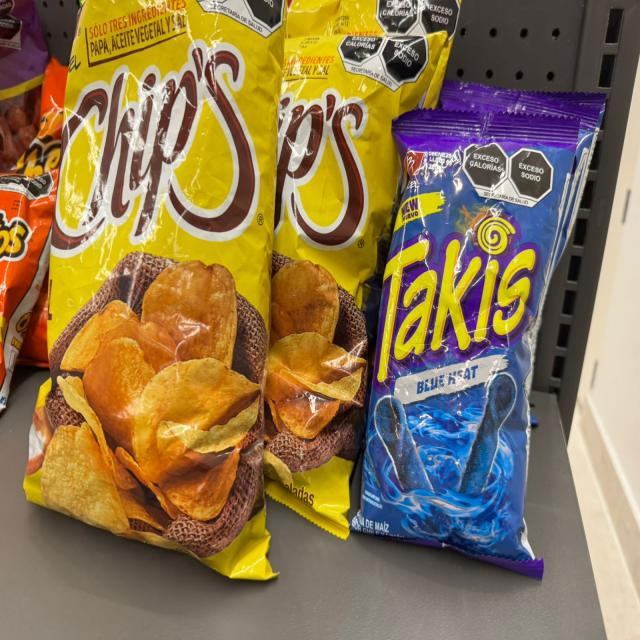CHEETOS TORCIDITOS 240GR: (22, 60, 82, 182)
Papas Chips Barcel 170 gr bolsa con sal: (24, 3, 288, 599), (250, 31, 450, 544), (284, 4, 466, 34)
Takis Blue 75g: (348, 117, 580, 588)
chicharrones de cerdo intenso: (0, 5, 50, 173)
